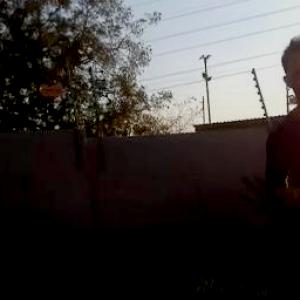follow: (260, 33, 300, 299)
